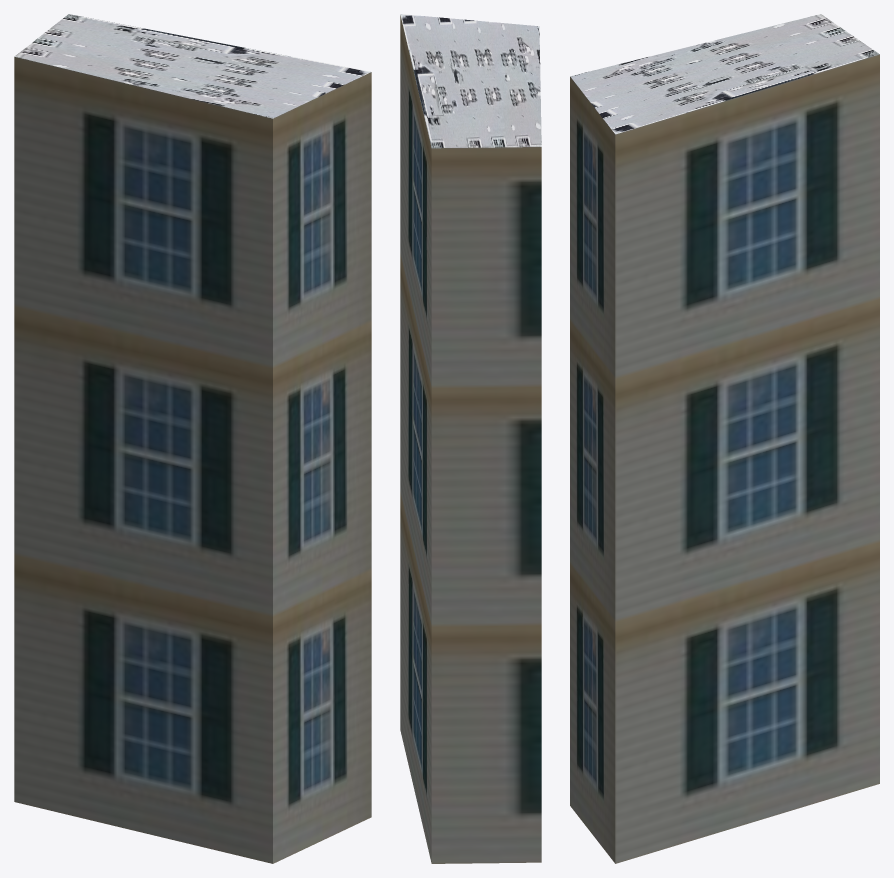
The model's file is ResTex__4332.fbx.
The picture shows the model from 3 angles, left to right: view 1: azimuth 30°, elevation 25°; view 2: azimuth 150°, elevation 25°; view 3: azimuth 270°, elevation 25°; orthographic projection. The views are drawn at different scales.
Visible parts, largest first — view 1: CityEngineMaterial_7_m, CityEngineMaterial_8_m; view 2: CityEngineMaterial_7_m, CityEngineMaterial_8_m; view 3: CityEngineMaterial_7_m, CityEngineMaterial_8_m.
Part boxes in pixels (box(x1,y1,x2,y2)): CityEngineMaterial_7_m: box(14, 56, 371, 863); CityEngineMaterial_8_m: box(15, 14, 370, 118); CityEngineMaterial_7_m: box(400, 15, 541, 863); CityEngineMaterial_8_m: box(400, 14, 541, 148); CityEngineMaterial_7_m: box(570, 54, 879, 863); CityEngineMaterial_8_m: box(570, 14, 879, 134).
Bounding box in the file's own units: 3.19 × 9 × 3.46.
Materials: 2 (2 with a texture image).
